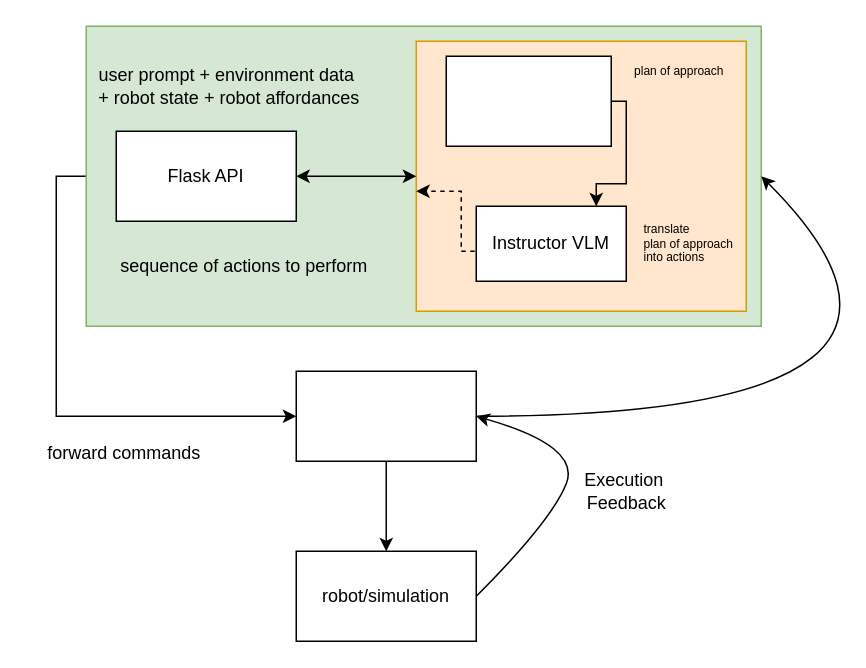
This 866x668 diagram has some shape labels left out. The box of each missing label's shape, as (x1, y1, x2, y2) in pixels:
Gemini API: (445, 55, 611, 146)
ROS server: (295, 370, 476, 461)
